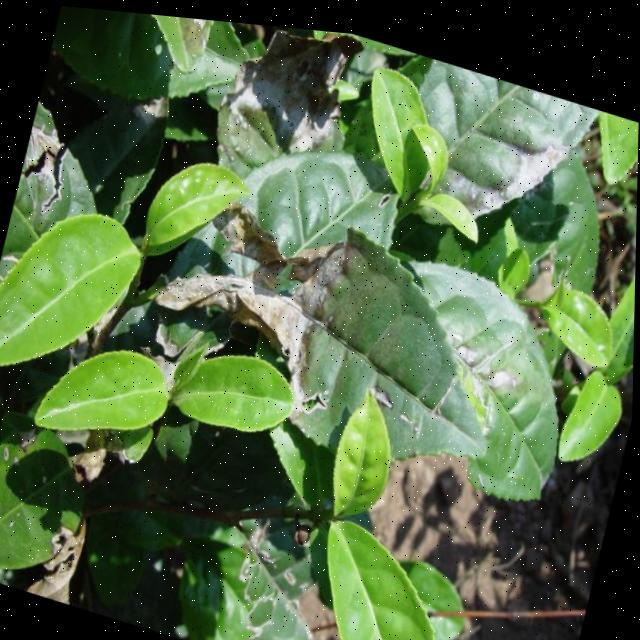Tea cloud leaf blight: (151, 172, 409, 421)
